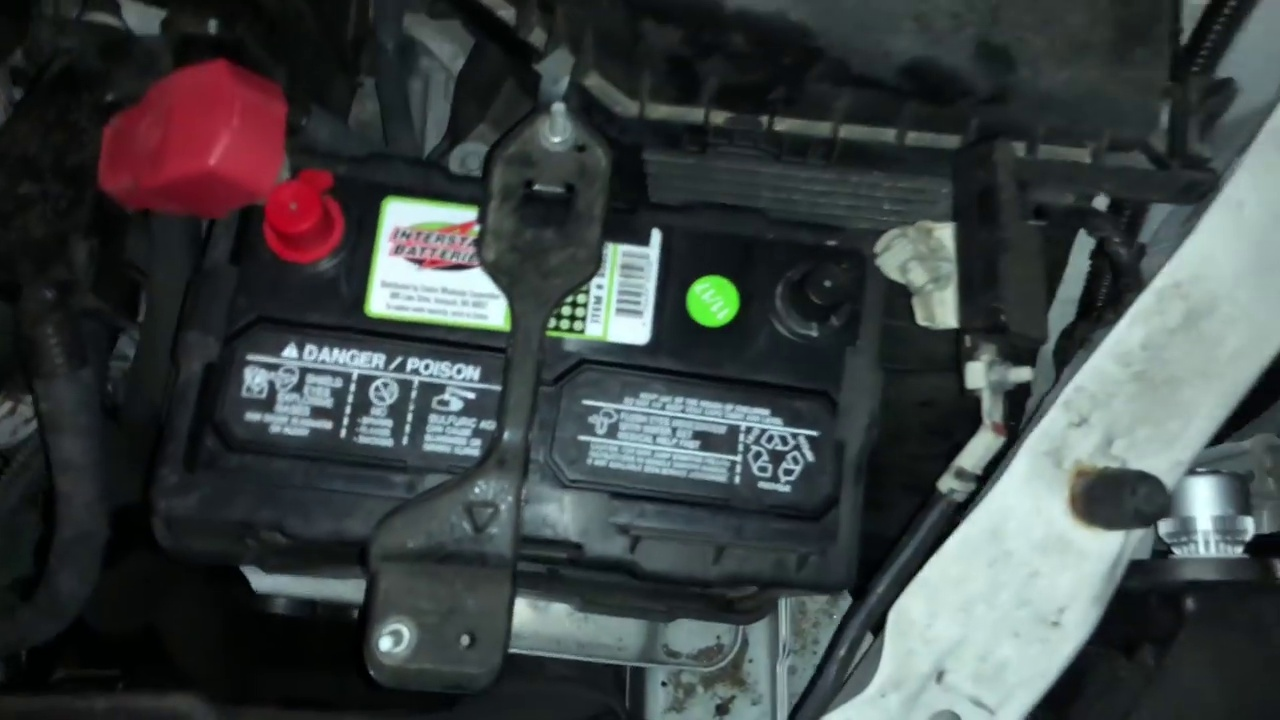battery: (178, 118, 855, 563)
pos_disconnected: (115, 100, 343, 265)
